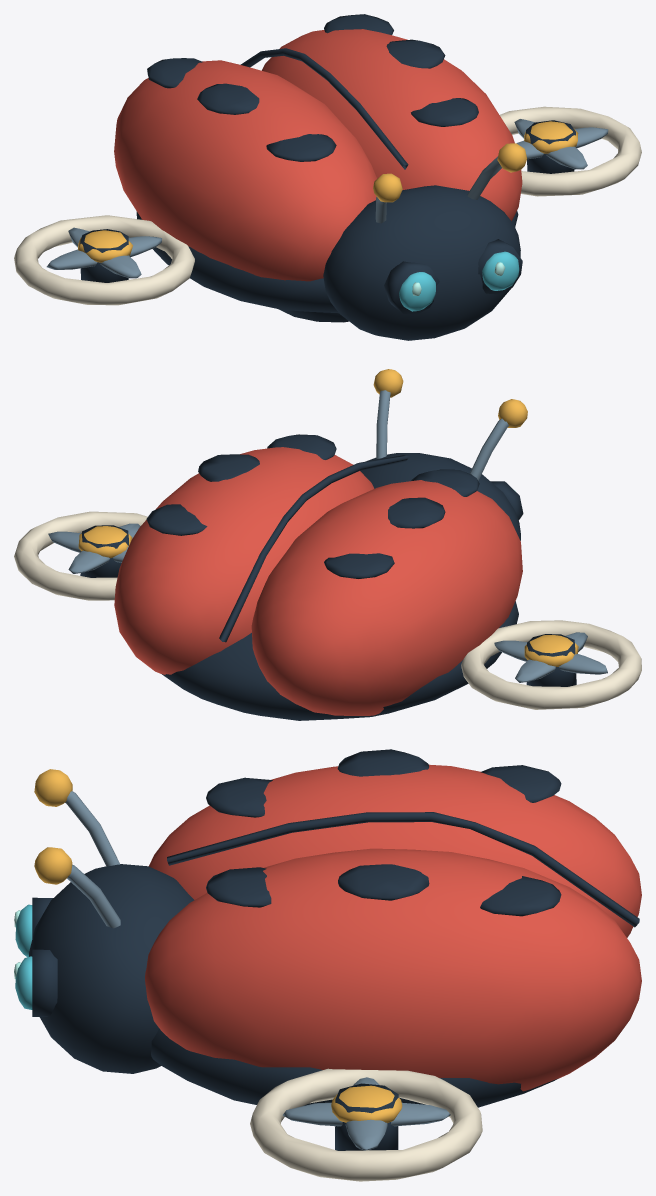
File: ladybug_low.glb
The picture shows the model from 3 angles, top to bottom: view 1: azimuth 30°, elevation 25°; view 2: azimuth 150°, elevation 25°; view 3: azimuth 270°, elevation 25°; orthographic projection. The views are drawn at different scales.
Parts seen in each view (by area): view 1: BodyMesh, Rotor0Mesh, Rotor1Mesh; view 2: BodyMesh, Rotor0Mesh, Rotor1Mesh; view 3: BodyMesh, Rotor1Mesh.
Part boxes in pixels (box(x1,y1,x2,y2)): BodyMesh: box(14, 14, 641, 340); Rotor0Mesh: box(46, 227, 161, 278); Rotor1Mesh: box(514, 119, 608, 169); BodyMesh: box(14, 369, 641, 720); Rotor0Mesh: box(494, 632, 607, 682); Rotor1Mesh: box(48, 523, 140, 573); BodyMesh: box(14, 749, 641, 1181); Rotor1Mesh: box(282, 1077, 450, 1150).
Bounding box in the file's own units: 2.11 × 0.7352 × 1.48.
